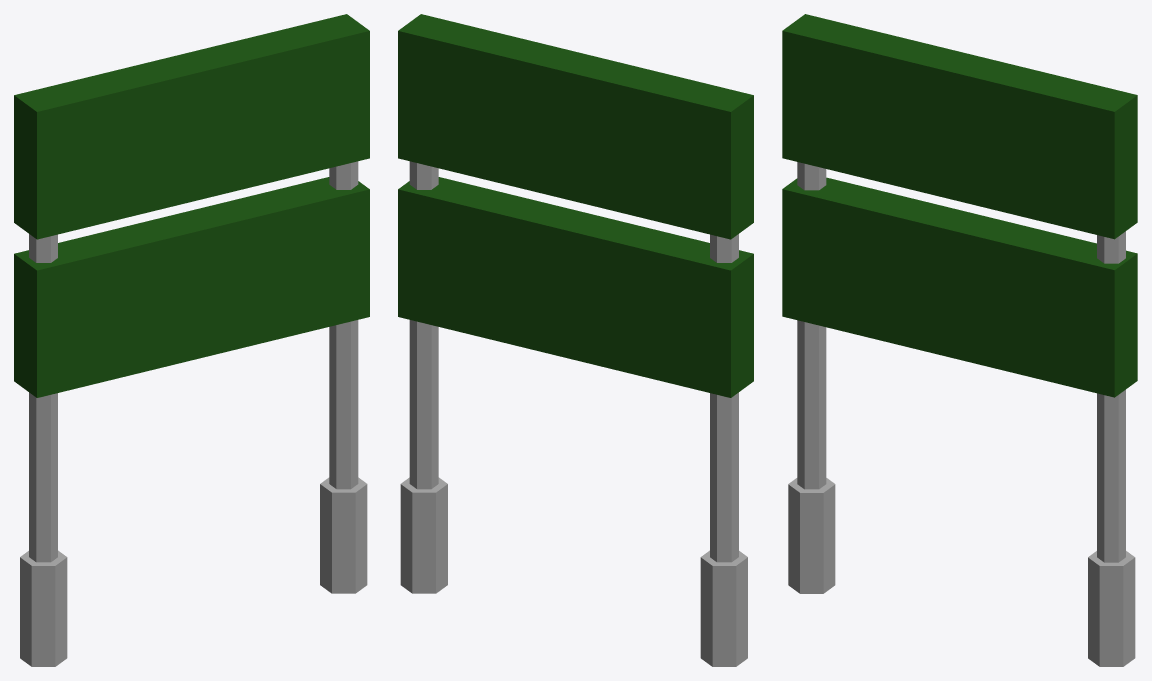
Rendered from SignBoard_06.fbx.
The picture shows the model from 3 angles, left to right: view 1: azimuth 30°, elevation 25°; view 2: azimuth 150°, elevation 25°; view 3: azimuth 330°, elevation 25°; orthographic projection.
Parts seen in each view (by area): view 1: SignBoard_06; view 2: SignBoard_06; view 3: SignBoard_06.
Boxes of the visible parts, x1,y1,x2,y2 form: SignBoard_06: (14,14,369,666); SignBoard_06: (398,14,753,666); SignBoard_06: (782,14,1137,666).
Size of the model in its own units: 903 by 1436 by 110.
